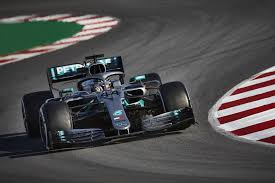FormulaOneCar: (19, 50, 204, 157)
